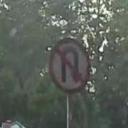NoVirarU: (47, 35, 93, 94)
